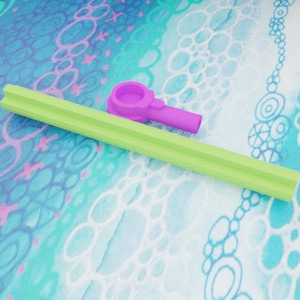lego: (0, 83, 300, 202), (106, 80, 202, 134)
